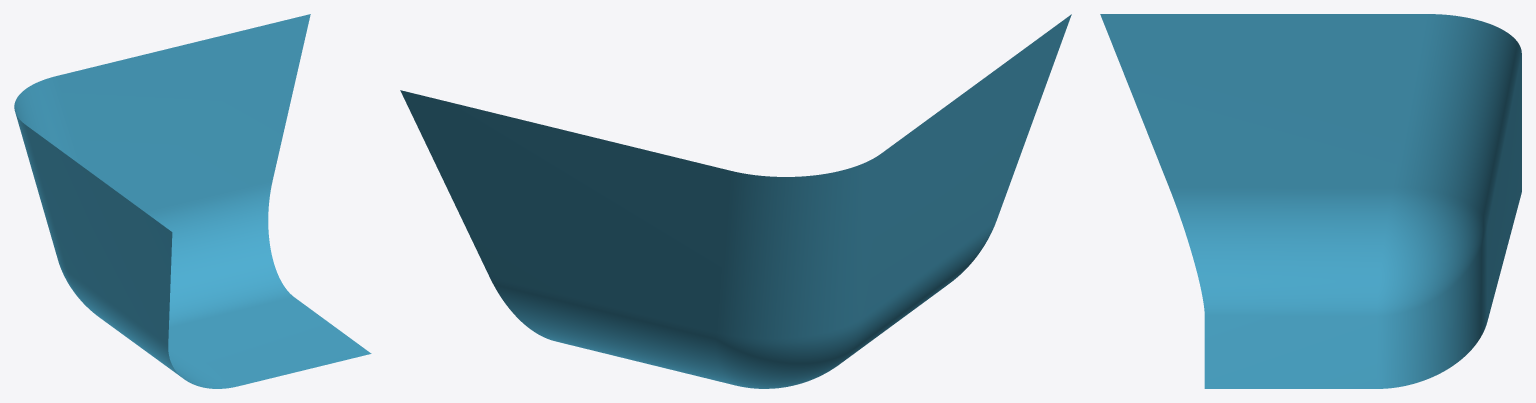
Rendered from Background-FBX.fbx.
The picture shows the model from 3 angles, left to right: view 1: azimuth 30°, elevation 25°; view 2: azimuth 150°, elevation 25°; view 3: azimuth 270°, elevation 25°; orthographic projection. The views are drawn at different scales.
Visible parts, largest first — view 1: Plane; view 2: Plane; view 3: Plane.
Part boxes in pixels (box(x1,y1,x2,y2)): Plane: box(14, 14, 371, 388); Plane: box(400, 14, 1071, 388); Plane: box(1100, 14, 1521, 388).
Size of the model in its own units: 2293 by 1445 by 2293.
